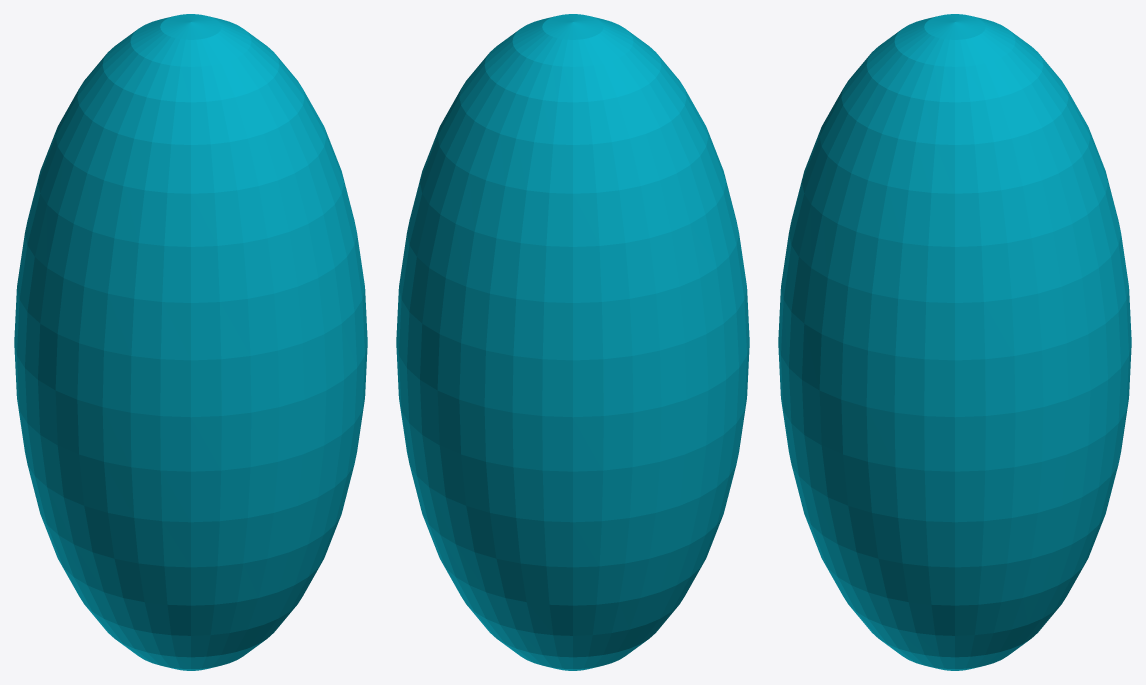
File: Spectacular Albar-Amur.glb
The picture shows the model from 3 angles, left to right: view 1: azimuth 30°, elevation 25°; view 2: azimuth 150°, elevation 25°; view 3: azimuth 270°, elevation 25°; orthographic projection.
Visible parts, largest first — view 1: Mesh_Mesh_head_geo.001_lambert2SG.001; view 2: Mesh_Mesh_head_geo.001_lambert2SG.001; view 3: Mesh_Mesh_head_geo.001_lambert2SG.001.
Boxes of the visible parts, left/top/right/bottom form: Mesh_Mesh_head_geo.001_lambert2SG.001: left=14, top=14, right=367, bottom=670; Mesh_Mesh_head_geo.001_lambert2SG.001: left=396, top=14, right=749, bottom=670; Mesh_Mesh_head_geo.001_lambert2SG.001: left=778, top=14, right=1131, bottom=670.
Size of the model in its own units: 8 by 16 by 8.
